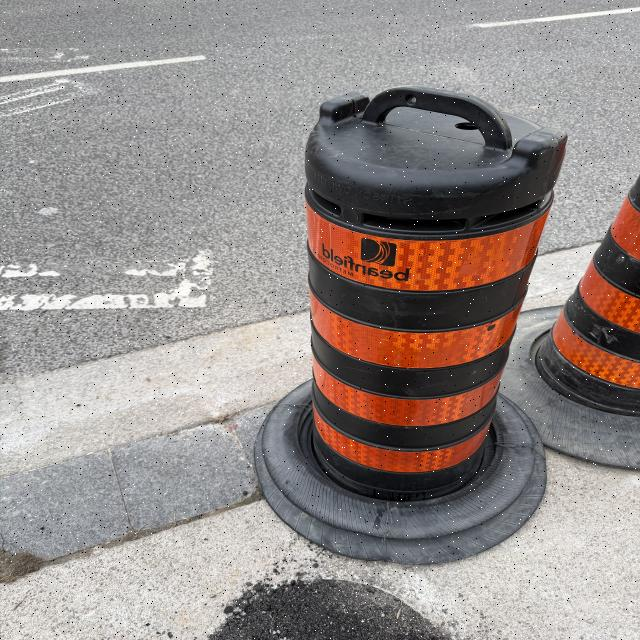Teraffic Barrel: (256, 87, 566, 563), (503, 178, 640, 470)
